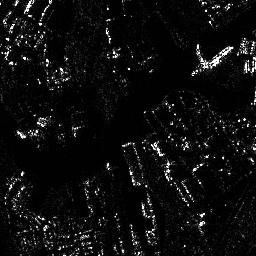ship: (189, 44, 232, 78)
